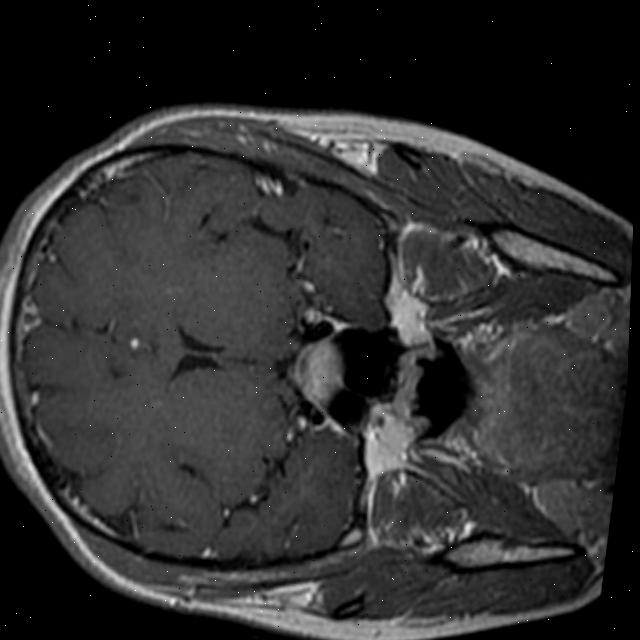Pituitary: (289, 332, 348, 409)
